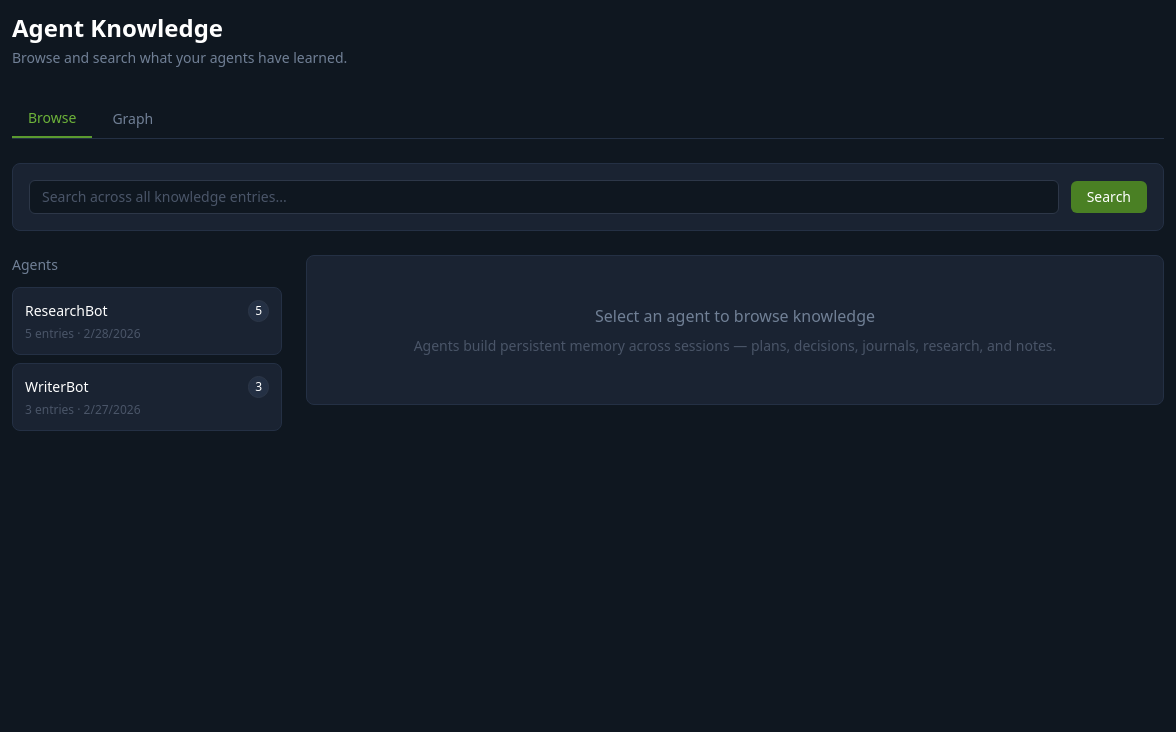
Test: KnowledgeClient — private-memory graph tab (app#501) › switching to the Graph tab fetches /api/knowledge/graph and mounts the canvas
Expected: the text "ResearchBot" is shown, [25,301,108,321]
Click the button "Graph". click: x=133, y=119
box: [96,100,169,138]
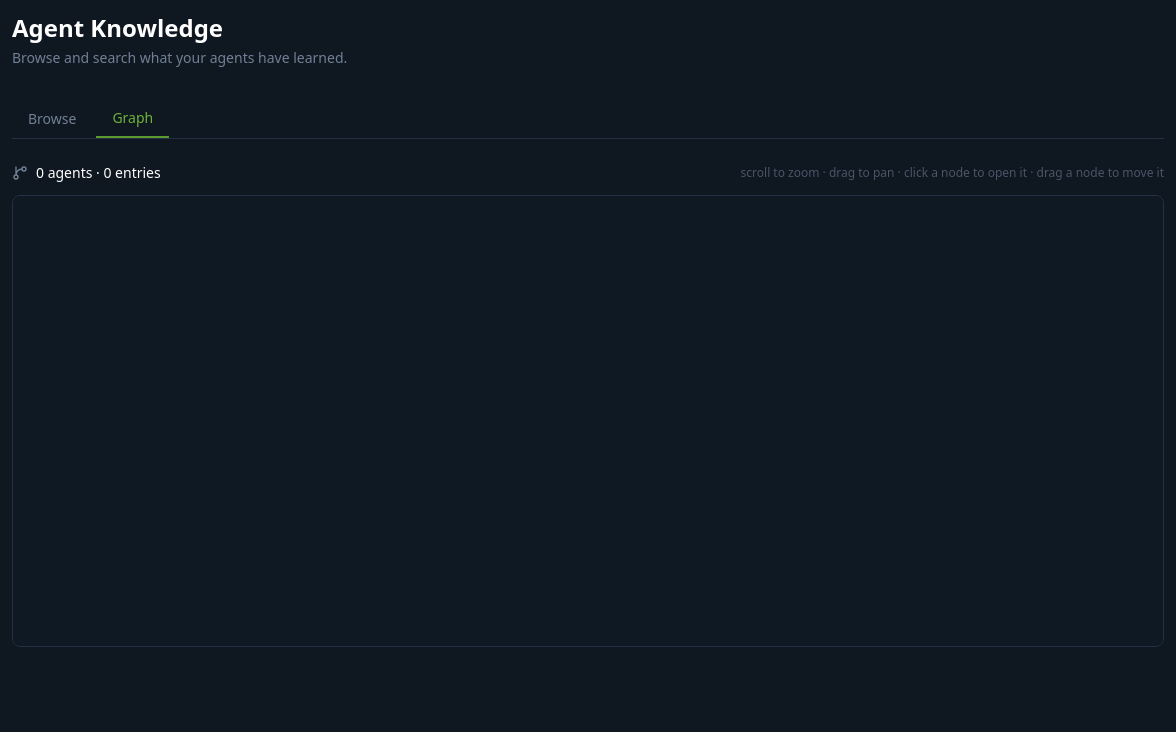
Result: the drawing with test id "knowledge-graph-canvas" is shown
